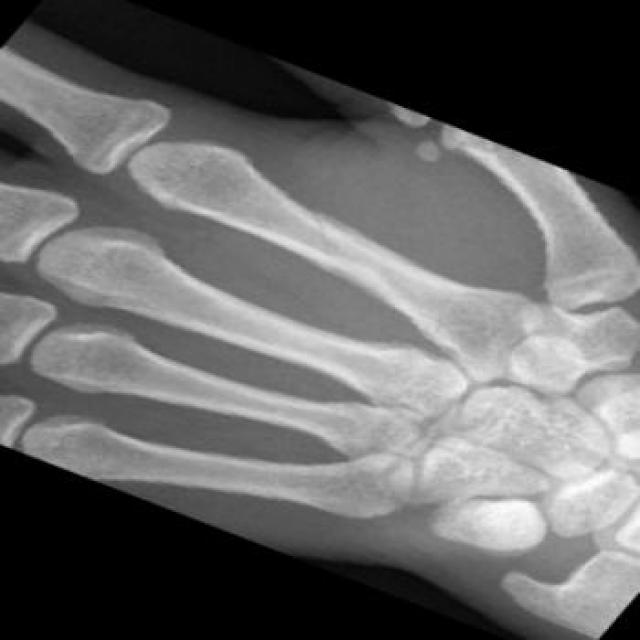Fracture: (289, 196, 355, 273)
